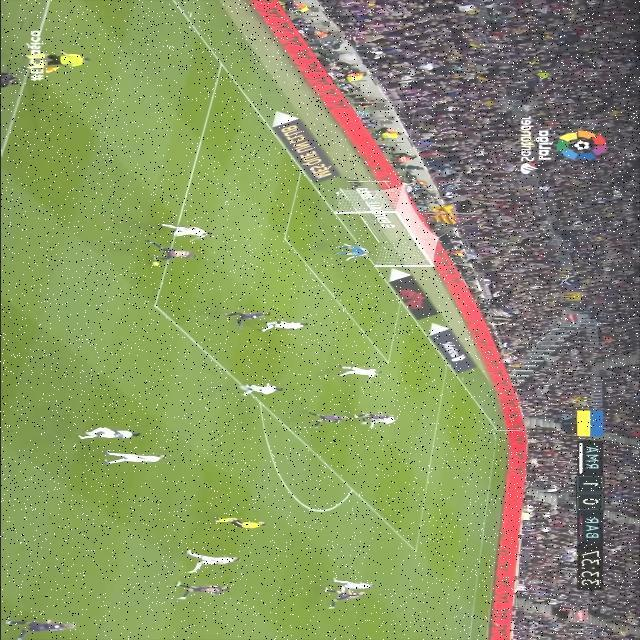goalkeeper: (298, 230, 387, 264)
player: (1, 608, 107, 640), (59, 418, 150, 452), (125, 238, 216, 269), (324, 355, 393, 393), (166, 545, 255, 574), (293, 583, 378, 611), (127, 218, 220, 240), (97, 439, 178, 463), (166, 581, 247, 605), (297, 401, 366, 427), (226, 374, 289, 398), (312, 573, 399, 590), (255, 312, 328, 332), (221, 305, 273, 329)
referee: (198, 507, 287, 537), (26, 46, 101, 76)
